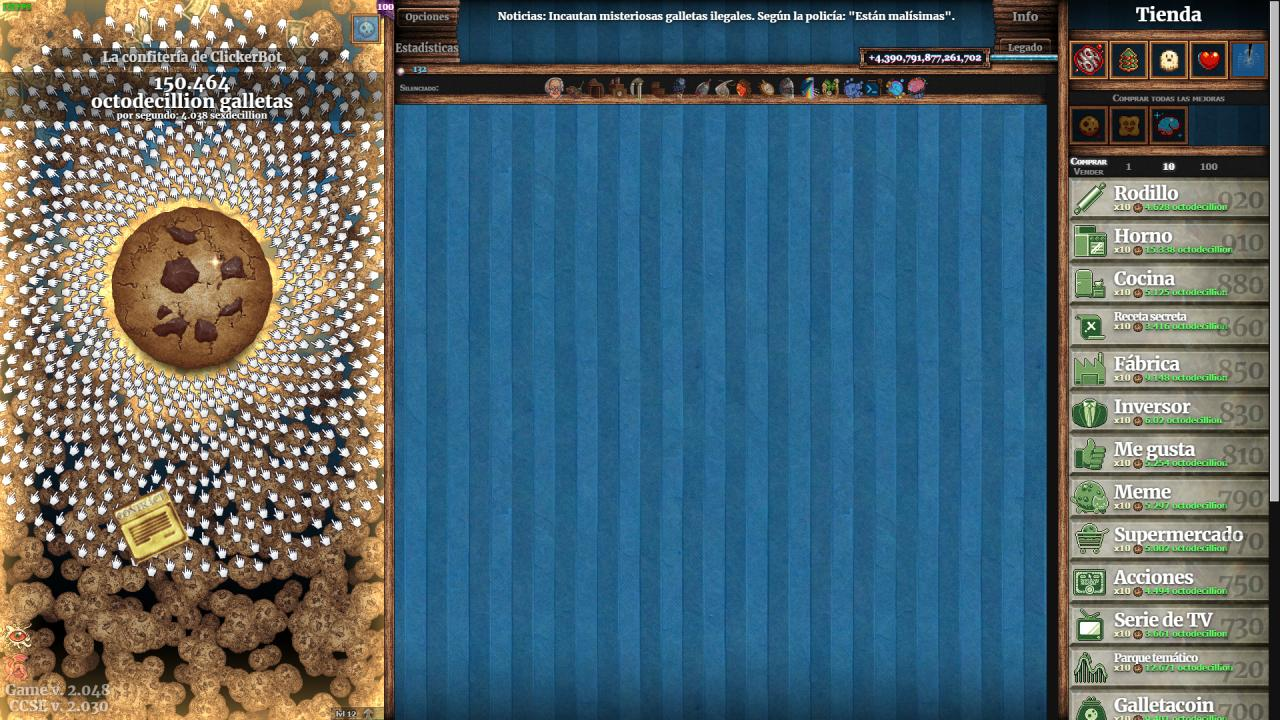GoldenCartridge: (111, 485, 191, 563)
